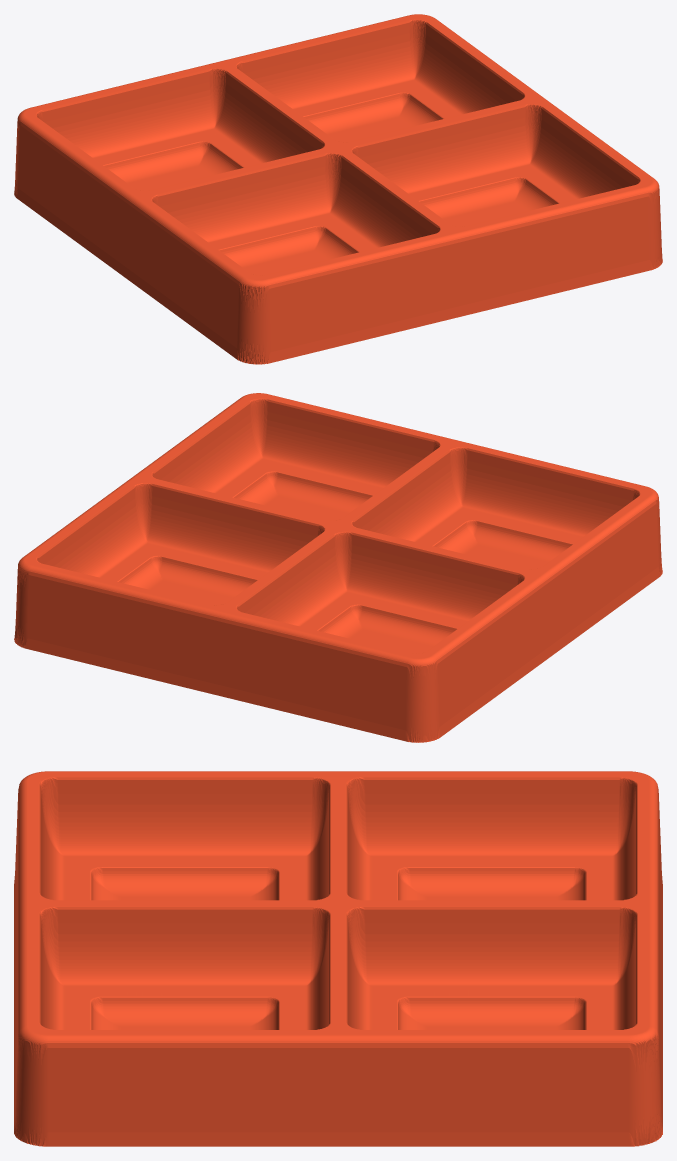
The model's file is mold.glb.
3 renders of one model, top to bottom at view 1: azimuth 30°, elevation 25°; view 2: azimuth 150°, elevation 25°; view 3: azimuth 270°, elevation 25°, orthographic. The views are drawn at different scales.
Parts seen in each view (by area): view 1: geometry_0; view 2: geometry_0; view 3: geometry_0.
Part boxes in pixels (left/top/right/bottom): geometry_0: left=14, top=14, right=662, bottom=364; geometry_0: left=14, top=393, right=662, bottom=742; geometry_0: left=14, top=771, right=662, bottom=1146.
Size of the model in its own units: 0.1721 by 0.031 by 0.1721.
